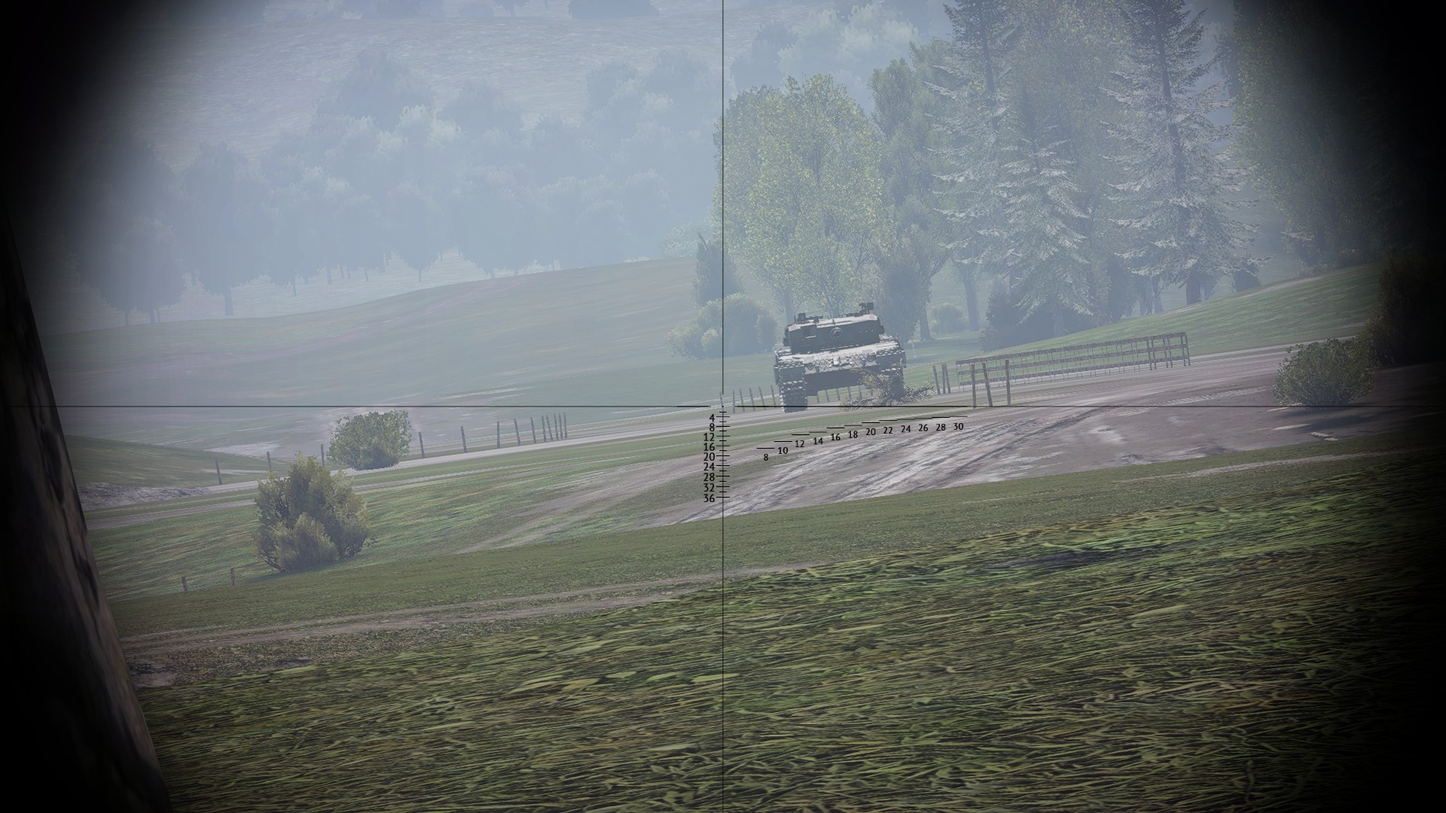leopard2: (773, 302, 906, 413)
